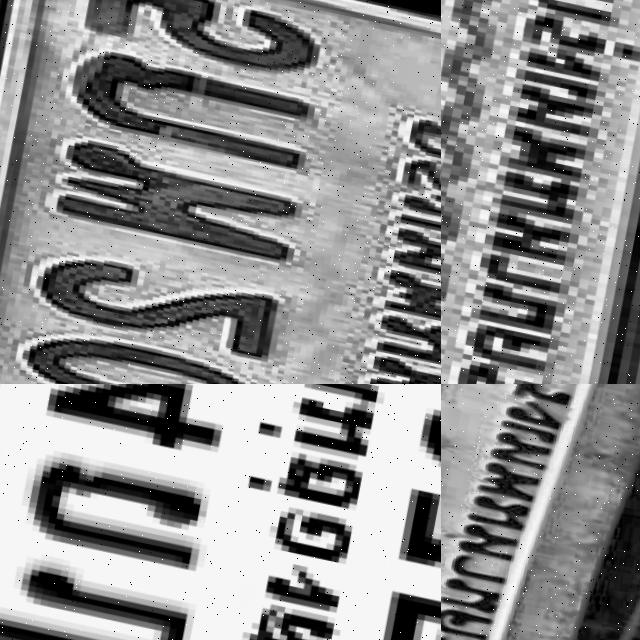license-plate: (0, 0, 441, 384), (0, 384, 441, 640), (441, 0, 640, 384), (441, 384, 640, 640)
